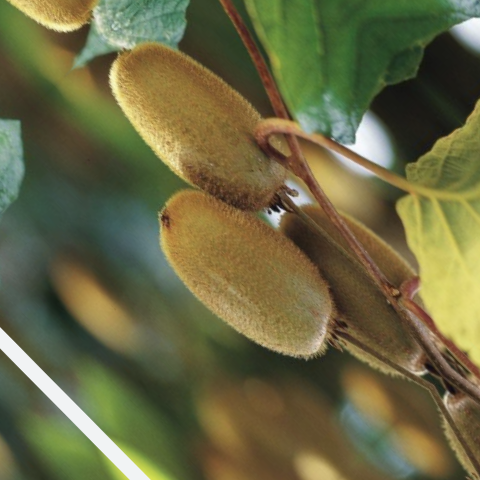kiwi: (73, 4, 333, 265), (229, 165, 478, 416), (126, 155, 369, 399)
